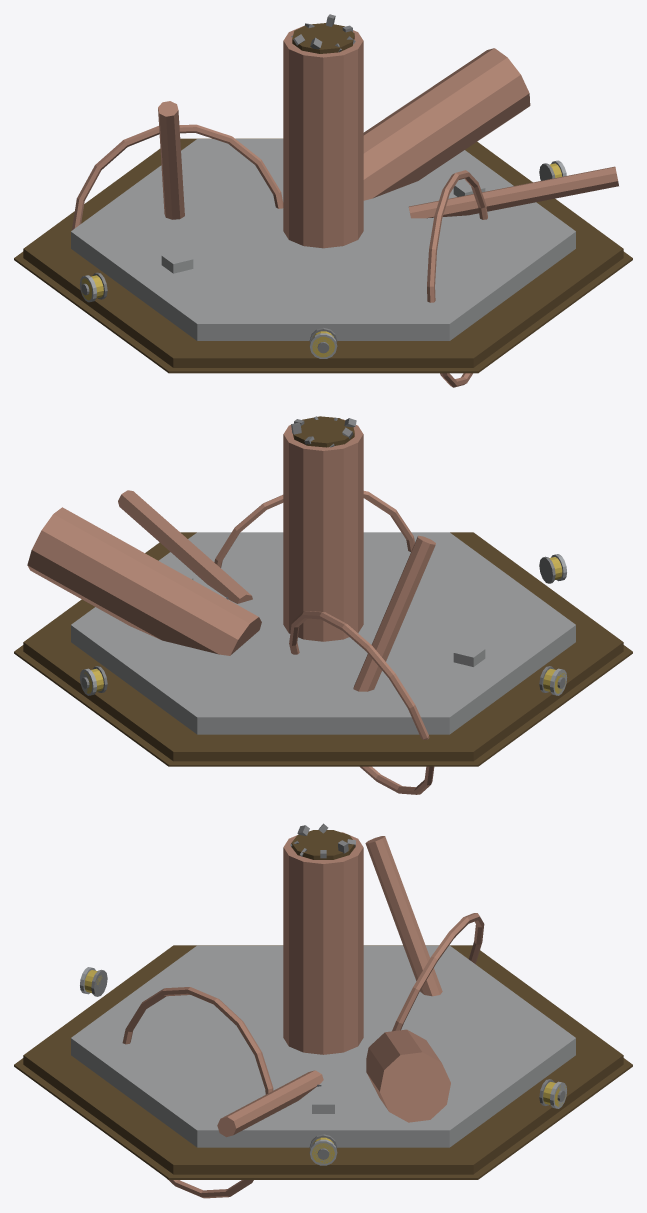
The model's file is overload_matrix_s2_ruin.glb.
The picture shows the model from 3 angles, top to bottom: view 1: azimuth 30°, elevation 25°; view 2: azimuth 150°, elevation 25°; view 3: azimuth 270°, elevation 25°; orthographic projection.
Visible parts, largest first — view 1: OM_BallFrag_0; view 2: OM_BallFrag_0; view 3: OM_BallFrag_0.
Part boxes in pixels (bbox=[...]): OM_BallFrag_0: bbox=[14, 14, 632, 387]; OM_BallFrag_0: bbox=[14, 416, 632, 794]; OM_BallFrag_0: bbox=[14, 823, 632, 1198].
Size of the model in its own units: 5.36 by 3.36 by 5.88.
